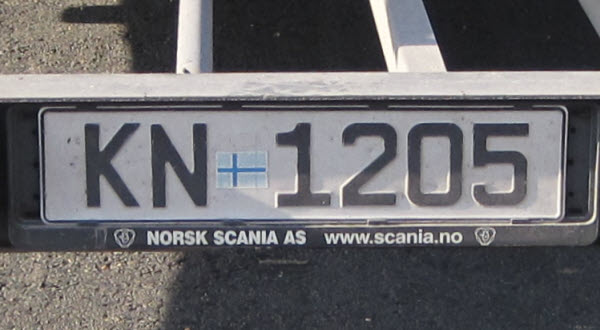license_plate: (37, 104, 567, 220)
